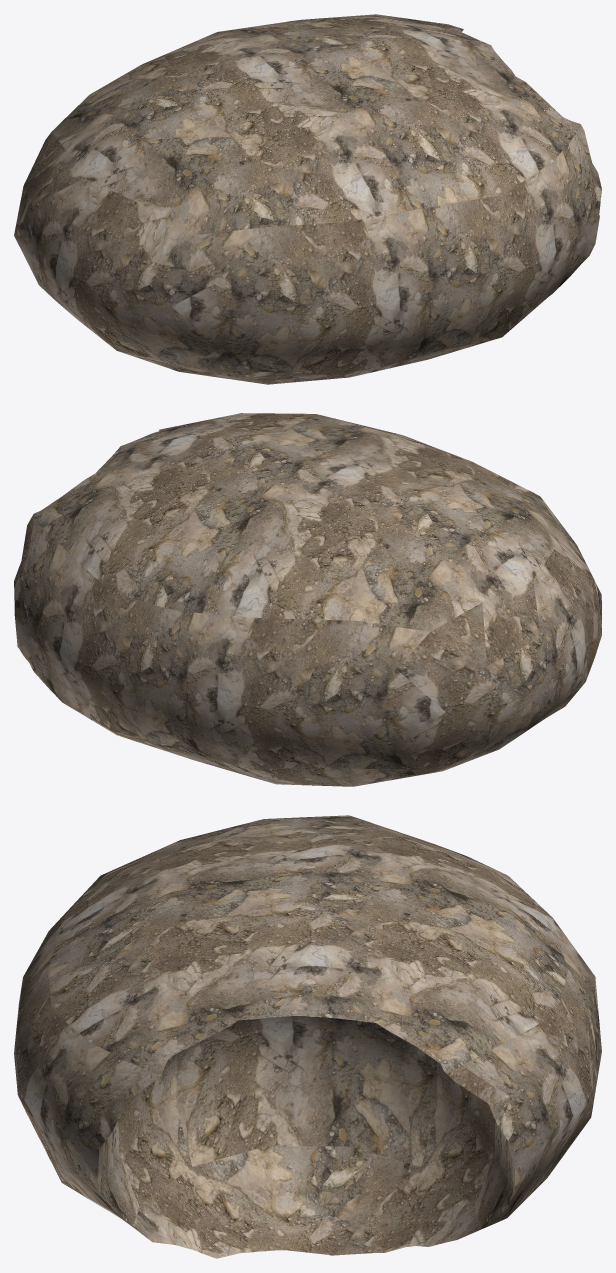
File: shelter.glb
3 views of the same model, one above another, from view 1: azimuth 30°, elevation 25°; view 2: azimuth 150°, elevation 25°; view 3: azimuth 270°, elevation 25° (orthographic). The views are drawn at different scales.
Parts seen in each view (by area): view 1: shelter; view 2: shelter; view 3: shelter.
Boxes of the visible parts, box(x1,y1,x2,y2) form: shelter: box(14, 14, 601, 384); shelter: box(14, 413, 601, 786); shelter: box(14, 815, 601, 1258).
Size of the model in its own units: 5.16 by 2.99 by 4.74.
Materials: 1 (1 with a texture image).
